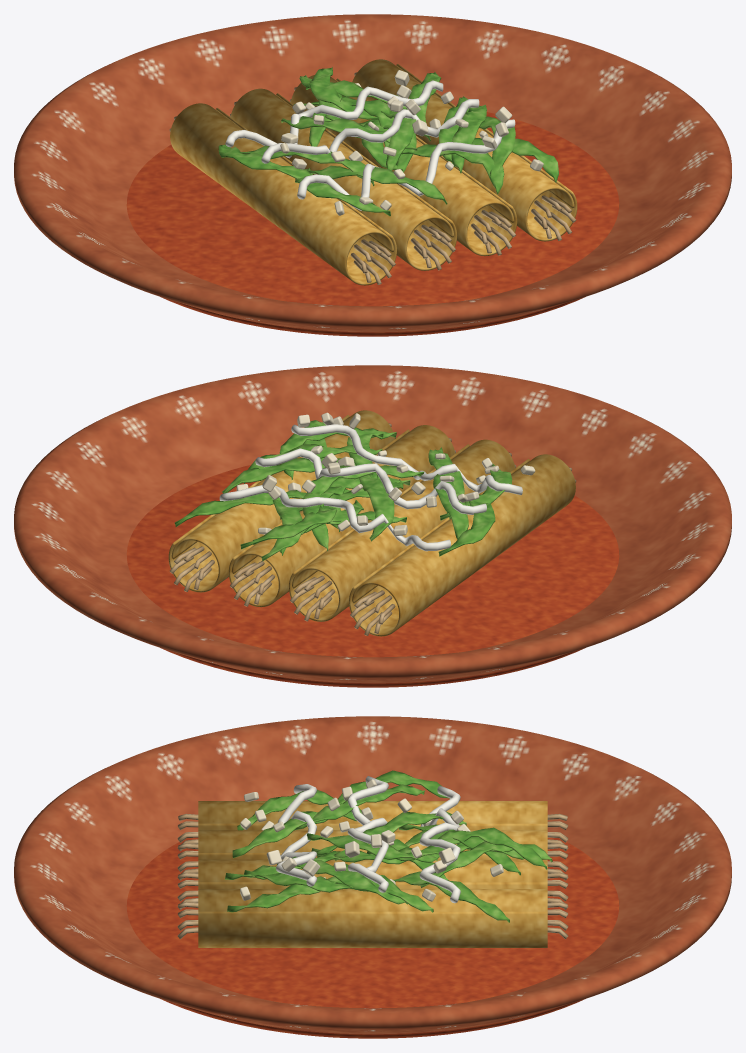
The model's file is plato_tacos_dorados.gltf.
The picture shows the model from 3 angles, top to bottom: view 1: azimuth 30°, elevation 25°; view 2: azimuth 150°, elevation 25°; view 3: azimuth 270°, elevation 25°; orthographic projection.
Visible parts, largest first — view 1: plato, salsa_verde, tortilla_enrollada, tortilla_enrollada.001, tortilla_enrollada.003, tortilla_enrollada.002, crema.001, crema.002, crema, lechuga.008, lechuga.016, lechuga.007 (+11 smaller); view 2: plato, salsa_verde, tortilla_enrollada, tortilla_enrollada.001, tortilla_enrollada.003, tortilla_enrollada.002, crema.001, crema.002, crema, lechuga.017, lechuga.016, lechuga.002 (+11 smaller); view 3: plato, salsa_verde, tortilla_enrollada.003, tortilla_enrollada, tortilla_enrollada.002, tortilla_enrollada.001, crema.002, crema.001, crema, lechuga.016, lechuga.017, lechuga.005 (+12 smaller).
Part boxes in pixels (x1,y1,x2,y2): plato: [14, 14, 731, 332]; salsa_verde: [126, 112, 619, 336]; tortilla_enrollada: [170, 103, 396, 285]; tortilla_enrollada.001: [230, 88, 456, 270]; tortilla_enrollada.003: [352, 59, 577, 241]; tortilla_enrollada.002: [290, 75, 517, 256]; crema.001: [261, 99, 479, 163]; crema.002: [225, 80, 443, 158]; crema: [297, 119, 515, 210]; lechuga.008: [306, 165, 447, 204]; lechuga.016: [309, 67, 378, 119]; lechuga.007: [401, 144, 504, 194]; plato: [14, 365, 731, 683]; salsa_verde: [126, 465, 619, 687]; tortilla_enrollada: [349, 454, 575, 636]; tortilla_enrollada.001: [289, 439, 515, 621]; tortilla_enrollada.003: [168, 410, 394, 592]; tortilla_enrollada.002: [228, 425, 455, 607]; crema.001: [255, 448, 486, 514]; crema.002: [219, 485, 450, 551]; crema: [291, 424, 522, 495]; lechuga.017: [174, 490, 306, 526]; lechuga.016: [240, 505, 336, 549]; lechuga.002: [359, 474, 394, 541]; plato: [14, 716, 731, 1034]; salsa_verde: [126, 837, 619, 1038]; tortilla_enrollada.003: [198, 889, 547, 947]; tortilla_enrollada: [198, 801, 547, 830]; tortilla_enrollada.002: [198, 859, 547, 888]; tortilla_enrollada.001: [198, 830, 547, 859]; crema.002: [419, 785, 460, 903]; crema.001: [347, 776, 388, 892]; crema: [276, 784, 317, 886]; lechuga.016: [428, 827, 547, 869]; lechuga.017: [393, 871, 509, 922]; lechuga.005: [277, 860, 407, 904].
Size of the model in its own units: 0.3 by 0.0593 by 0.3.
Materials: 7 (7 with a texture image).
